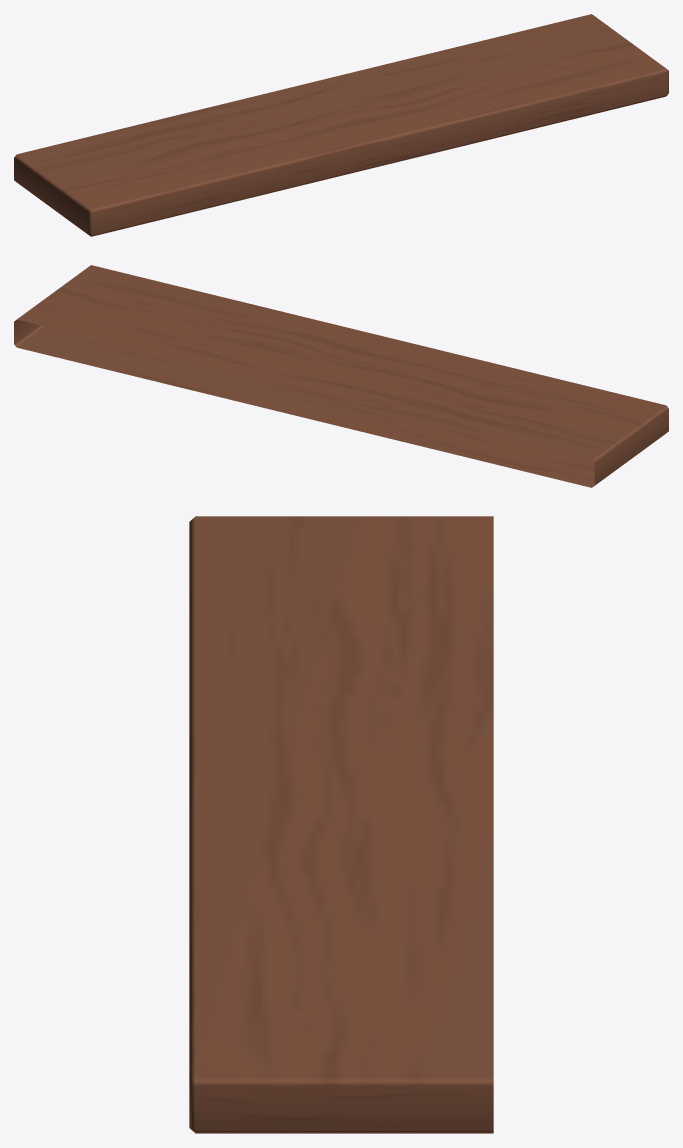
Rendered from Plank.fbx.
3 views of the same model, one above another, from view 1: azimuth 30°, elevation 25°; view 2: azimuth 150°, elevation 25°; view 3: azimuth 270°, elevation 25° (orthographic). The views are drawn at different scales.
Visible parts, largest first — view 1: Plank; view 2: Plank; view 3: Plank.
Boxes of the visible parts, x1,y1,x2,y2 form: Plank: [14, 14, 668, 236]; Plank: [14, 265, 668, 487]; Plank: [189, 516, 493, 1133].
Bounding box in the file's own units: 141 × 6.52 × 31.99.
Materials: 1 (1 with a texture image).
